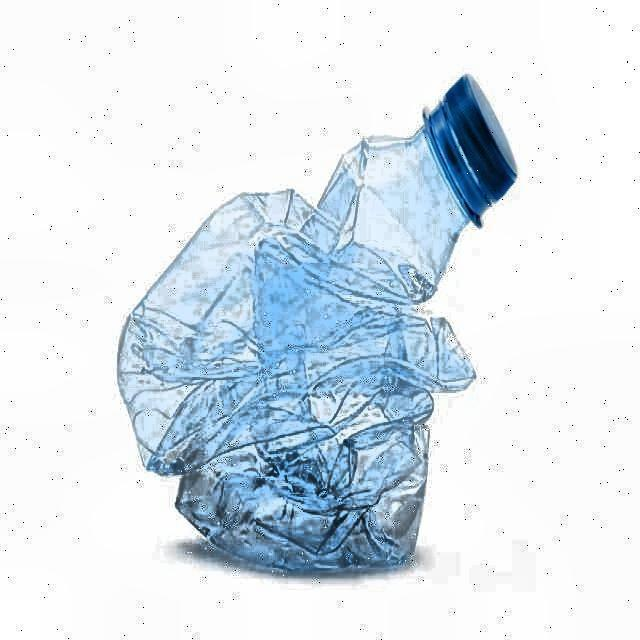plastic: (114, 74, 519, 581)
